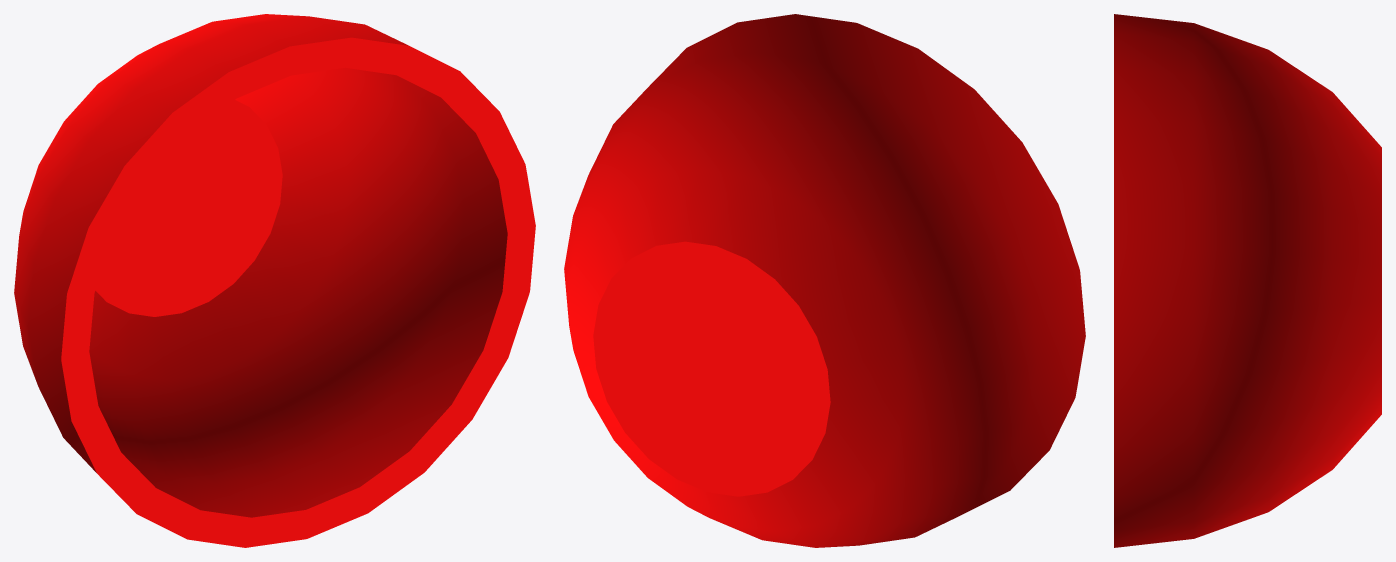
The model's file is model_align.obj.
The picture shows the model from 3 angles, left to right: view 1: azimuth 30°, elevation 25°; view 2: azimuth 150°, elevation 25°; view 3: azimuth 270°, elevation 25°; orthographic projection.
Visible parts, largest first — view 1: mesh1_mesh1-geometry; view 2: mesh1_mesh1-geometry; view 3: mesh1_mesh1-geometry.
Part boxes in pixels (bbox=[...]): mesh1_mesh1-geometry: bbox=[14, 14, 535, 547]; mesh1_mesh1-geometry: bbox=[564, 14, 1085, 547]; mesh1_mesh1-geometry: bbox=[1114, 14, 1381, 547].
Size of the model in its own units: 0.1375 by 0.1375 by 0.0685.
